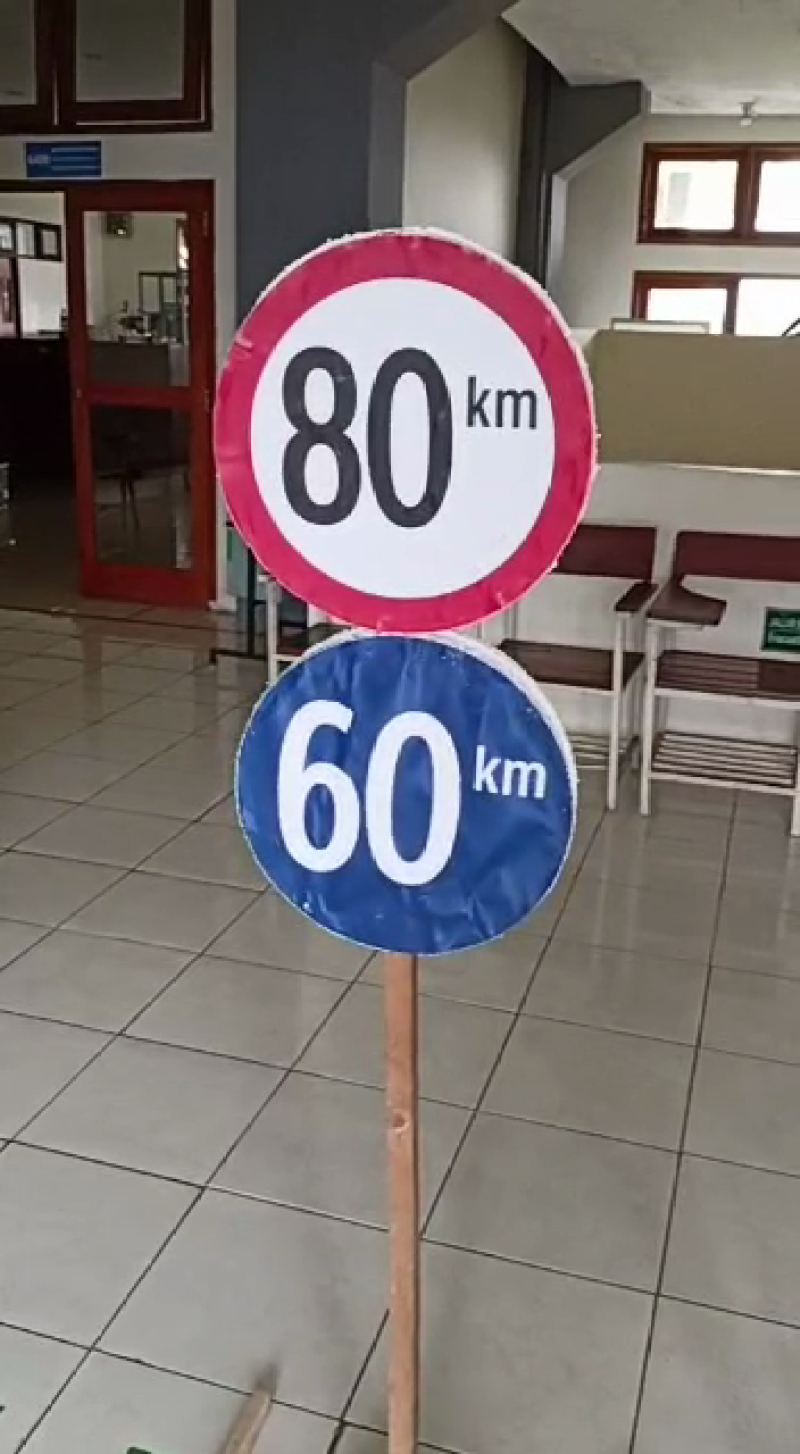batas maksimal 80kmperjam minimal 60kmperjam: (194, 224, 604, 980)
